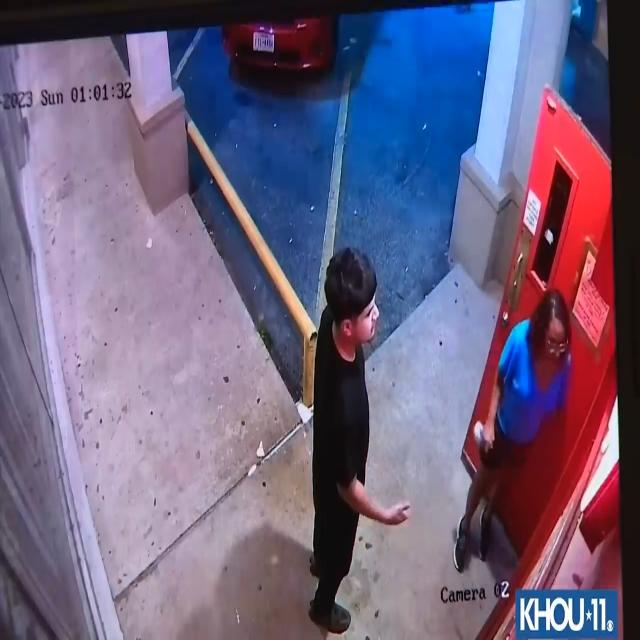Person: (302, 240, 411, 638), (467, 260, 575, 592)
